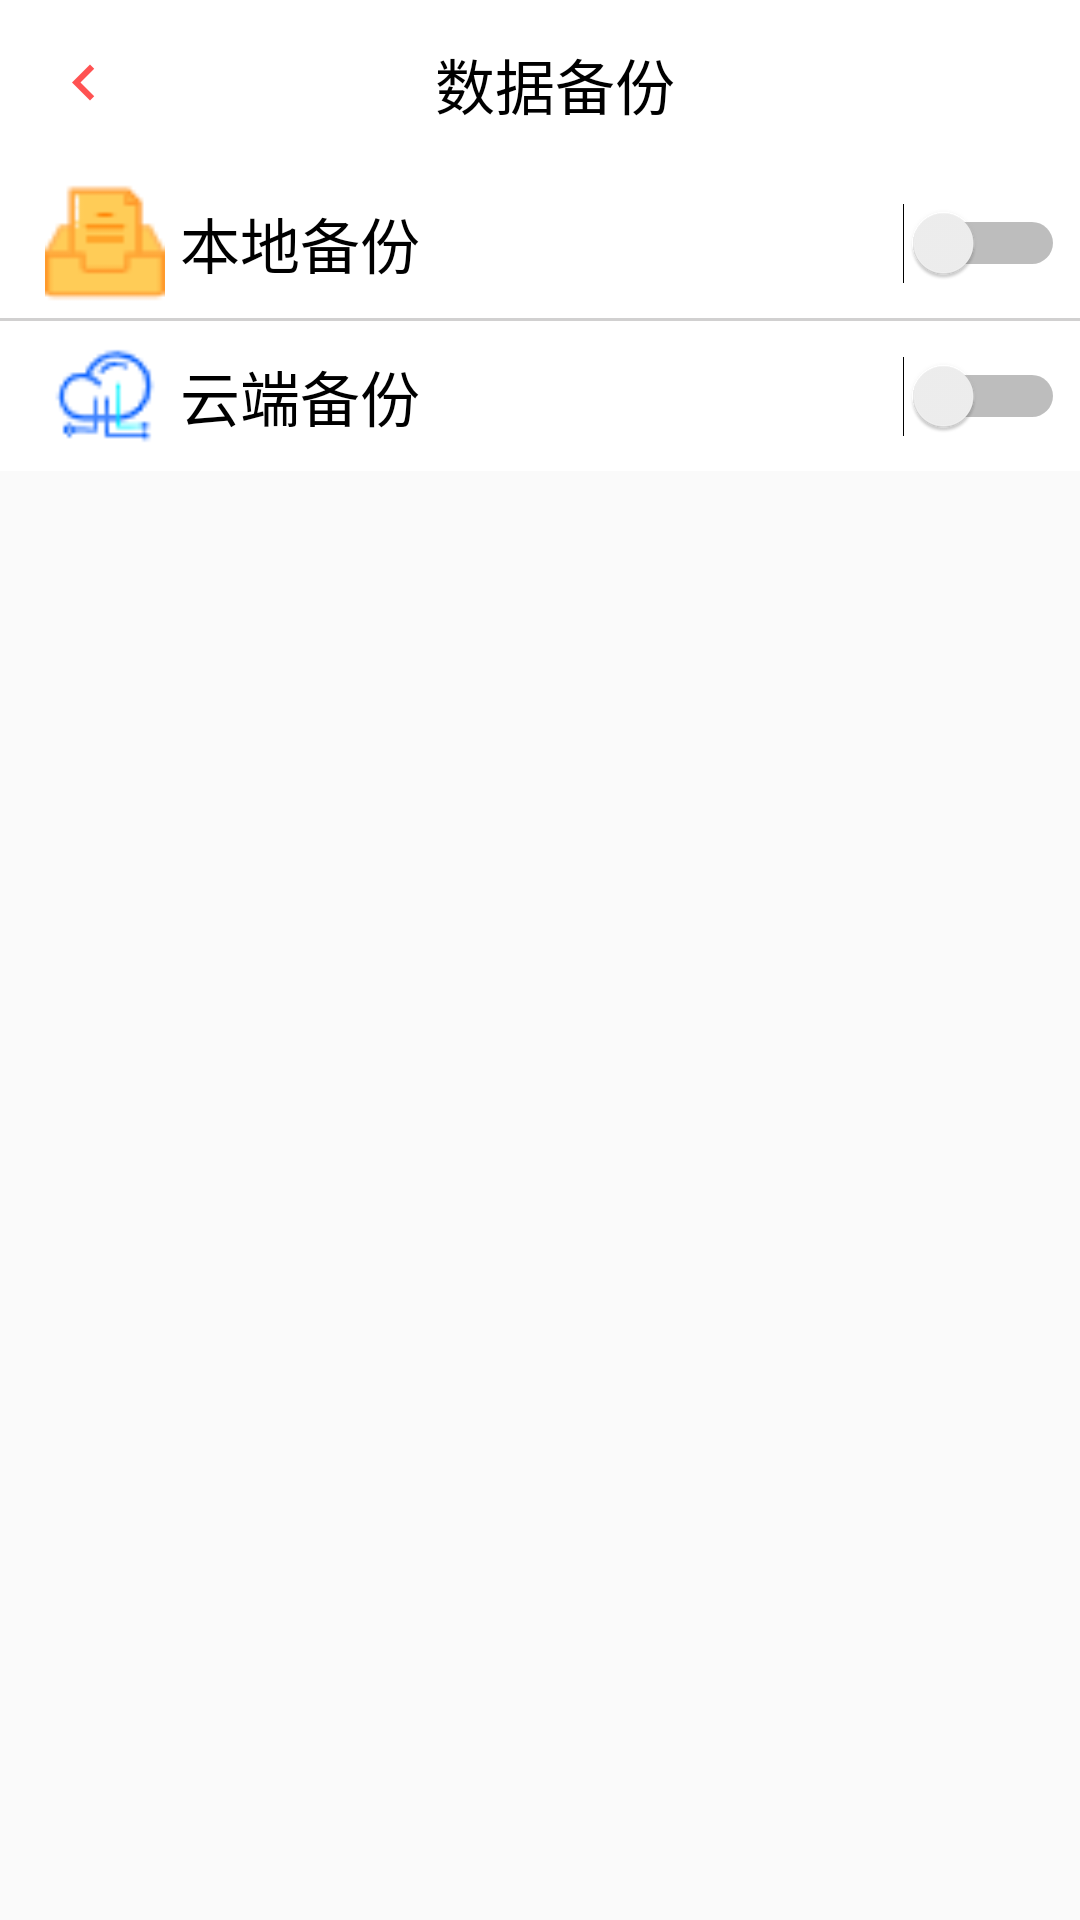

Icon bounding boxes for this 1080x1920 phone screenshot, format (x1, y1, x2, y2):
back: (72, 65, 94, 100)
